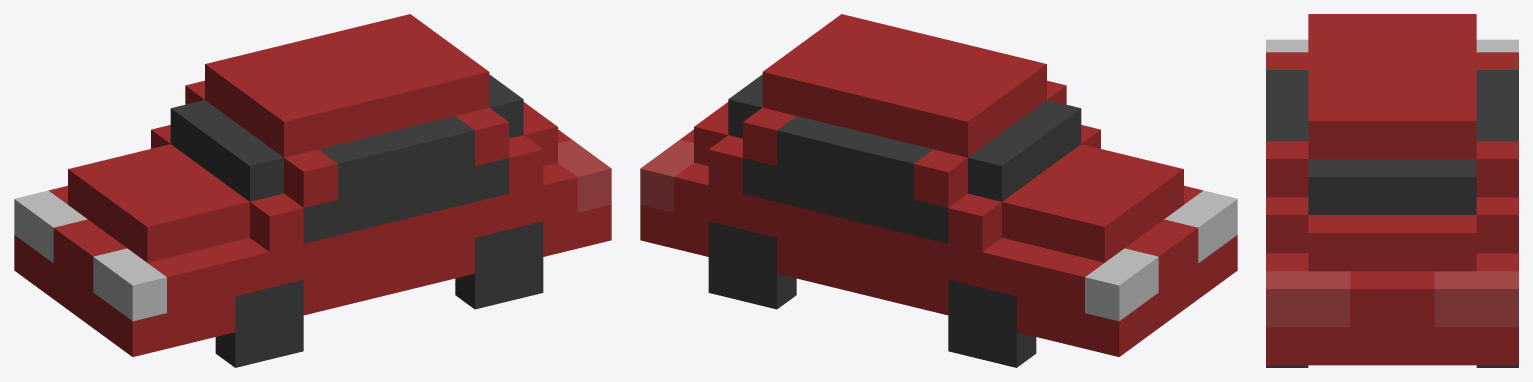
File: car-v2-red.gltf
The picture shows the model from 3 angles, left to right: view 1: azimuth 30°, elevation 25°; view 2: azimuth 150°, elevation 25°; view 3: azimuth 270°, elevation 25°; orthographic projection. The views are drawn at different scales.
Parts seen in each view (by area): view 1: model, wheels; view 2: model, wheels; view 3: model, wheels.
Part boxes in pixels (x1,y1,x2,y2): model: (14, 14, 611, 356); wheels: (215, 221, 543, 367); model: (640, 14, 1237, 356); wheels: (708, 221, 1036, 367); model: (1266, 14, 1518, 365); wheels: (1266, 365, 1518, 367).
Size of the model in its own units: 1.4 by 0.6 by 0.6.
2 materials, 2 textured.
